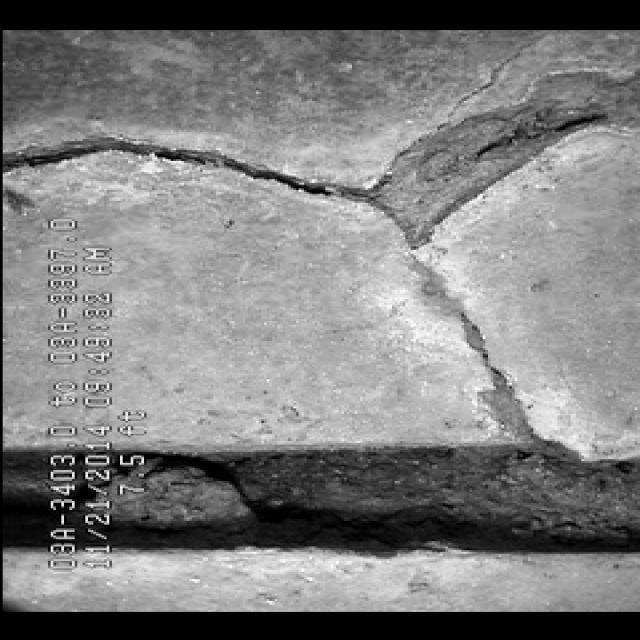Fracture: (12, 90, 614, 214)
